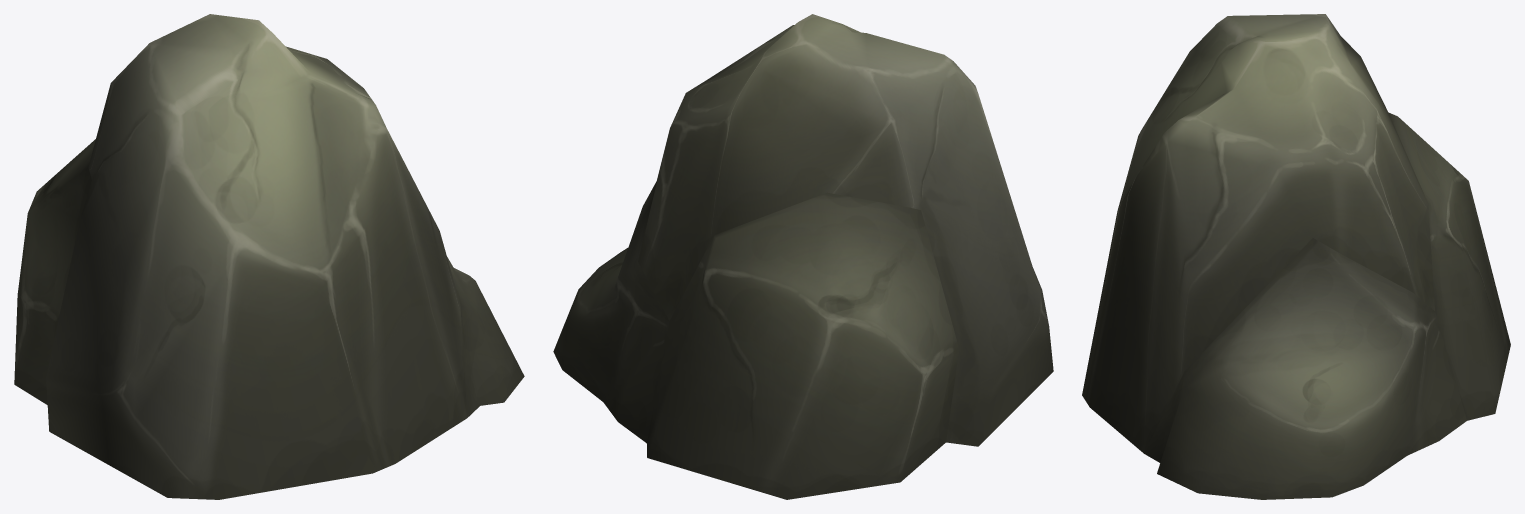
File: Rock_3.FBX
The picture shows the model from 3 angles, left to right: view 1: azimuth 30°, elevation 25°; view 2: azimuth 150°, elevation 25°; view 3: azimuth 270°, elevation 25°; orthographic projection. The views are drawn at different scales.
Visible parts, largest first — view 1: Rock_3; view 2: Rock_3; view 3: Rock_3.
Boxes of the visible parts, x1=… form: Rock_3: x1=14, y1=14, x2=524, y2=499; Rock_3: x1=553, y1=14, x2=1053, y2=499; Rock_3: x1=1082, y1=14, x2=1510, y2=499.
Size of what is drawn, in the model's own units: 466 by 420 by 380.
